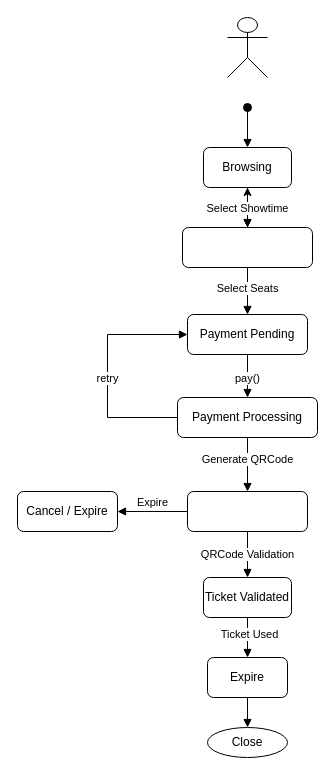
The diagram is 335 pixels wide and 775 high, and some of its shapes have lost their labels. The shapes that lost their labels are listed below. From the top down, each one's box as (x1, y1, x2, y2) in pixels, then its label:
(226, 16, 268, 78): Customer
(182, 226, 312, 268): Showtime Selected
(186, 490, 308, 532): Ticket Generated
